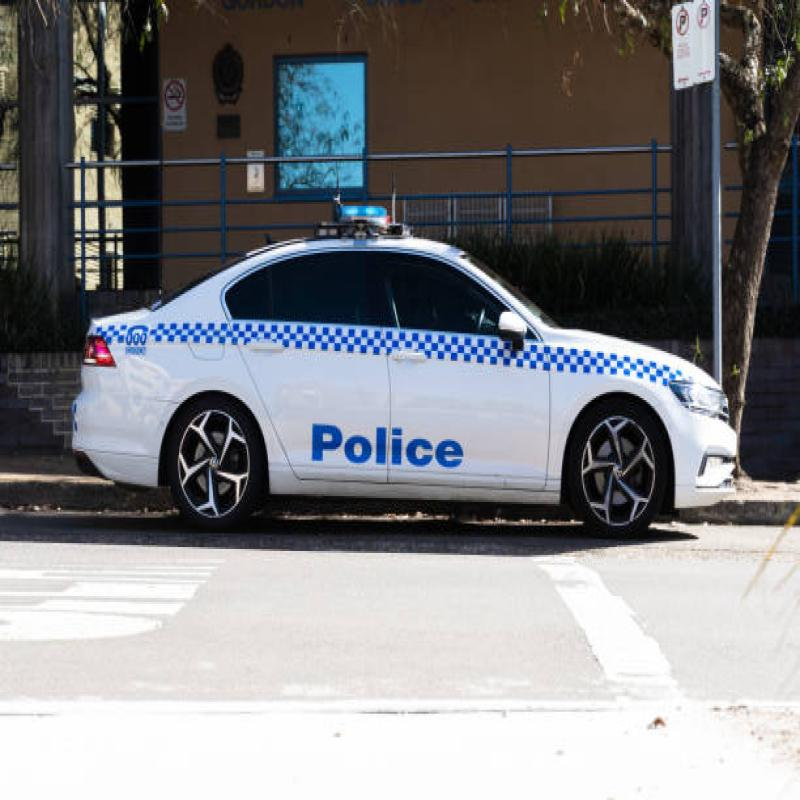AmbulanceSiren: (332, 182, 396, 232)
car: (65, 237, 751, 618)
